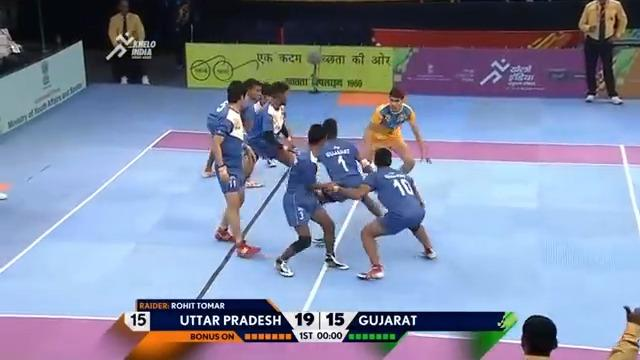Player: (319, 146, 437, 280), (273, 122, 349, 277), (206, 79, 261, 258), (311, 117, 384, 245)
Raider: (357, 86, 431, 174)
referee: (577, 0, 627, 105), (106, 0, 150, 85), (169, 0, 194, 69)
